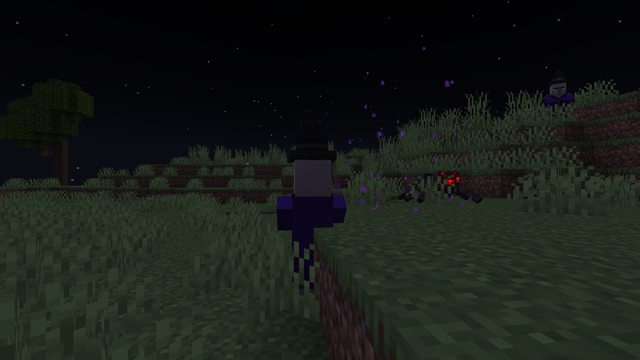araignees: (402, 168, 479, 204)
sorcieres: (288, 153, 337, 310), (545, 80, 570, 117)
